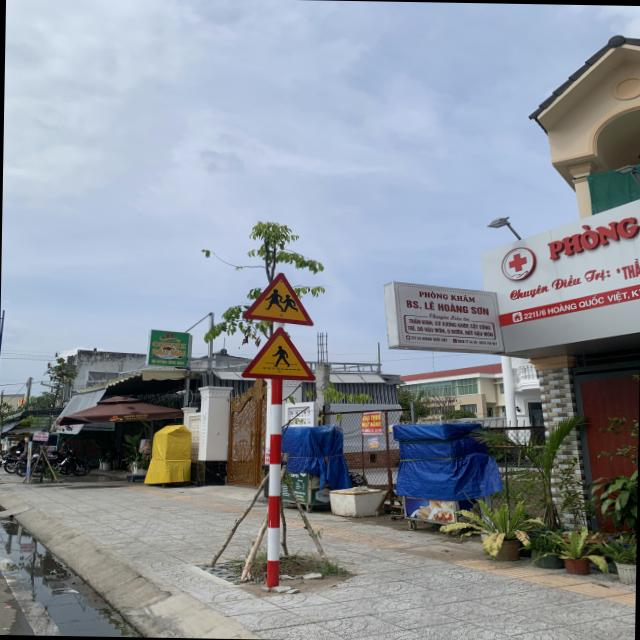Duong_Nguoi_Di_Bo_Sang_Ngang: (240, 326, 316, 381)
Vong_Xuyen: (242, 272, 314, 326)
